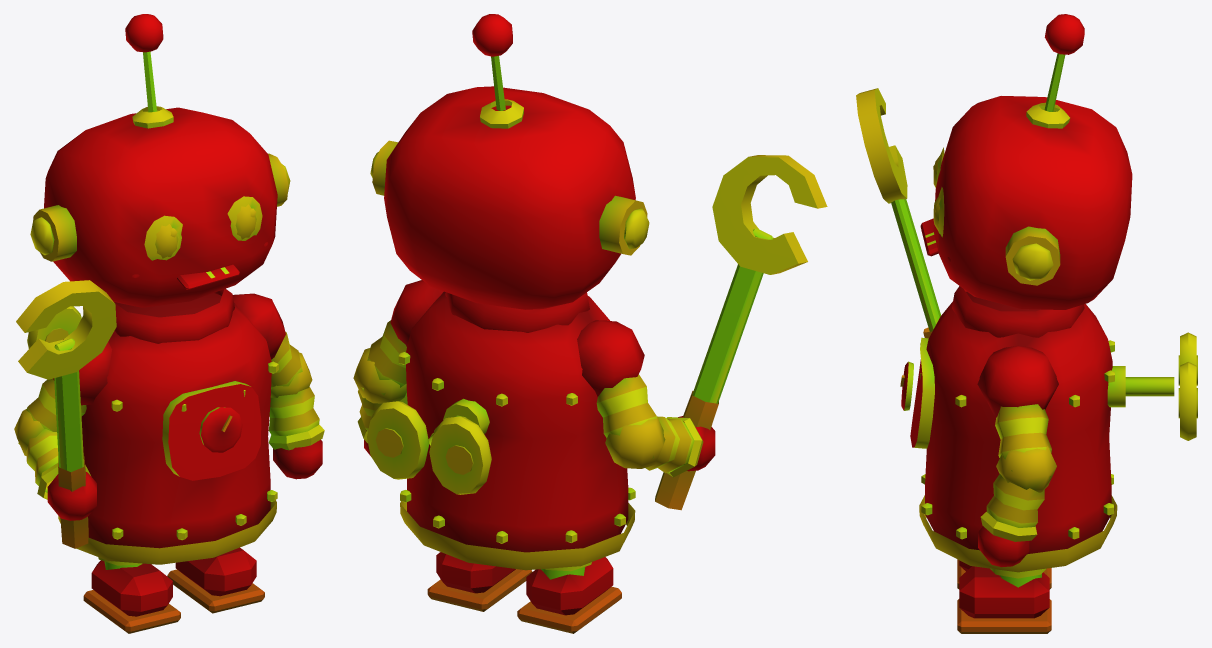
Rendered from RobotWorker_build.glb.
The picture shows the model from 3 angles, left to right: view 1: azimuth 30°, elevation 25°; view 2: azimuth 150°, elevation 25°; view 3: azimuth 270°, elevation 25°; orthographic projection. The views are drawn at different scales.
Parts seen in each view (by area): view 1: RobotWorker_build; view 2: RobotWorker_build; view 3: RobotWorker_build.
Boxes of the visible parts, <box> form: RobotWorker_build: <box>14,14,324,633</box>; RobotWorker_build: <box>353,14,827,633</box>; RobotWorker_build: <box>856,14,1197,633</box>.
Bounding box in the file's own units: 0.6273 × 0.93 × 0.4928.
